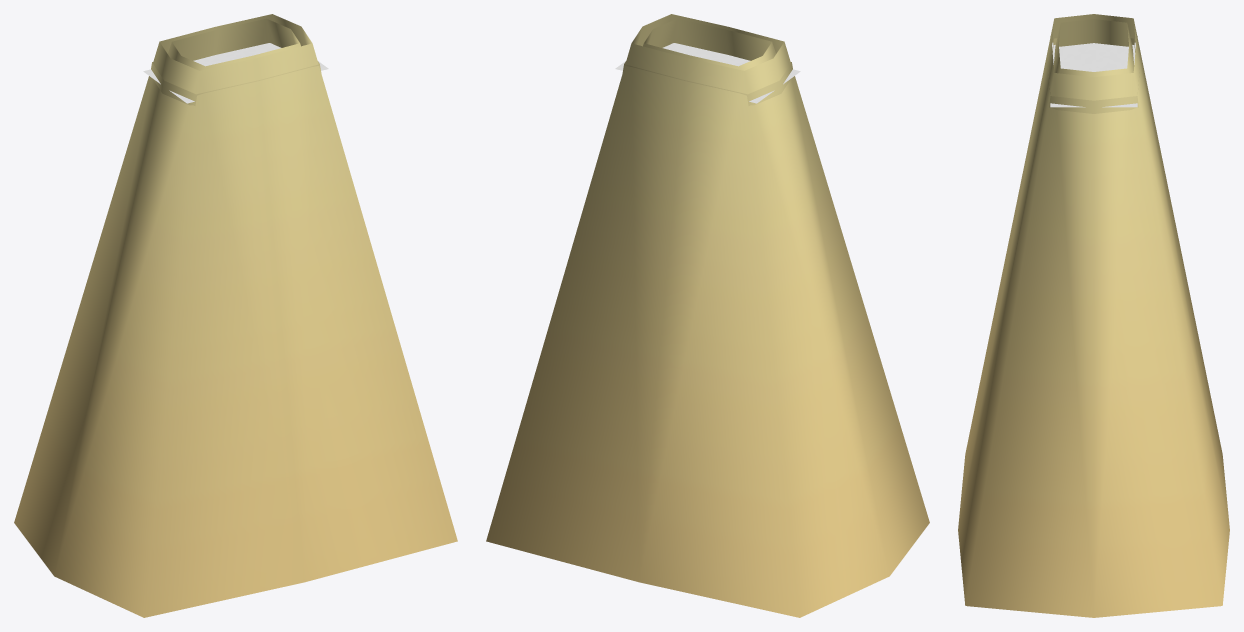
The model's file is light01.FBX.
The picture shows the model from 3 angles, left to right: view 1: azimuth 30°, elevation 25°; view 2: azimuth 150°, elevation 25°; view 3: azimuth 270°, elevation 25°; orthographic projection.
Visible parts, largest first — view 1: light01; view 2: light01; view 3: light01.
Part boxes in pixels (x1,y1,x2,y2): light01: (14, 14, 457, 617); light01: (486, 14, 929, 617); light01: (958, 14, 1229, 617).
Bounding box in the file's own units: 225 × 289 × 147.
